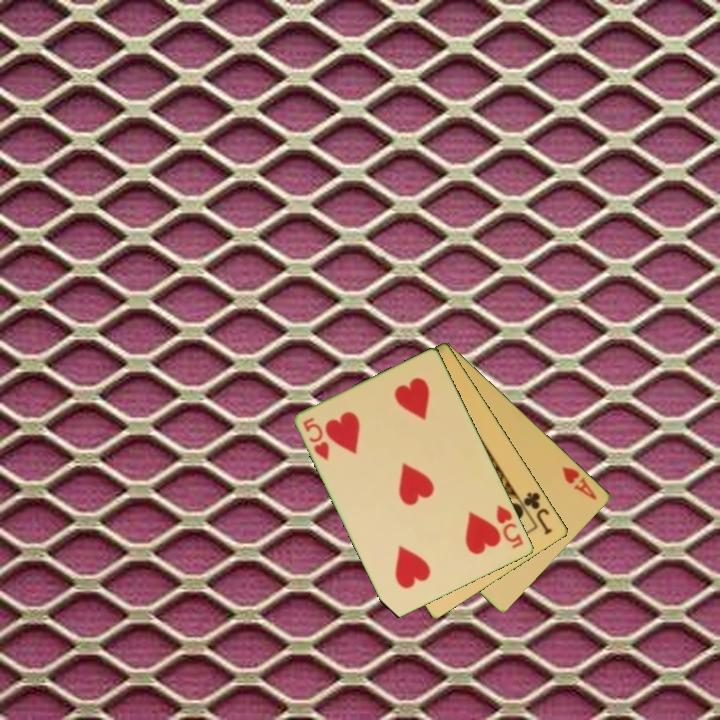5h: (493, 501, 527, 552), (300, 414, 333, 463)
Ah: (559, 463, 600, 503)
Jc: (520, 488, 556, 538)
